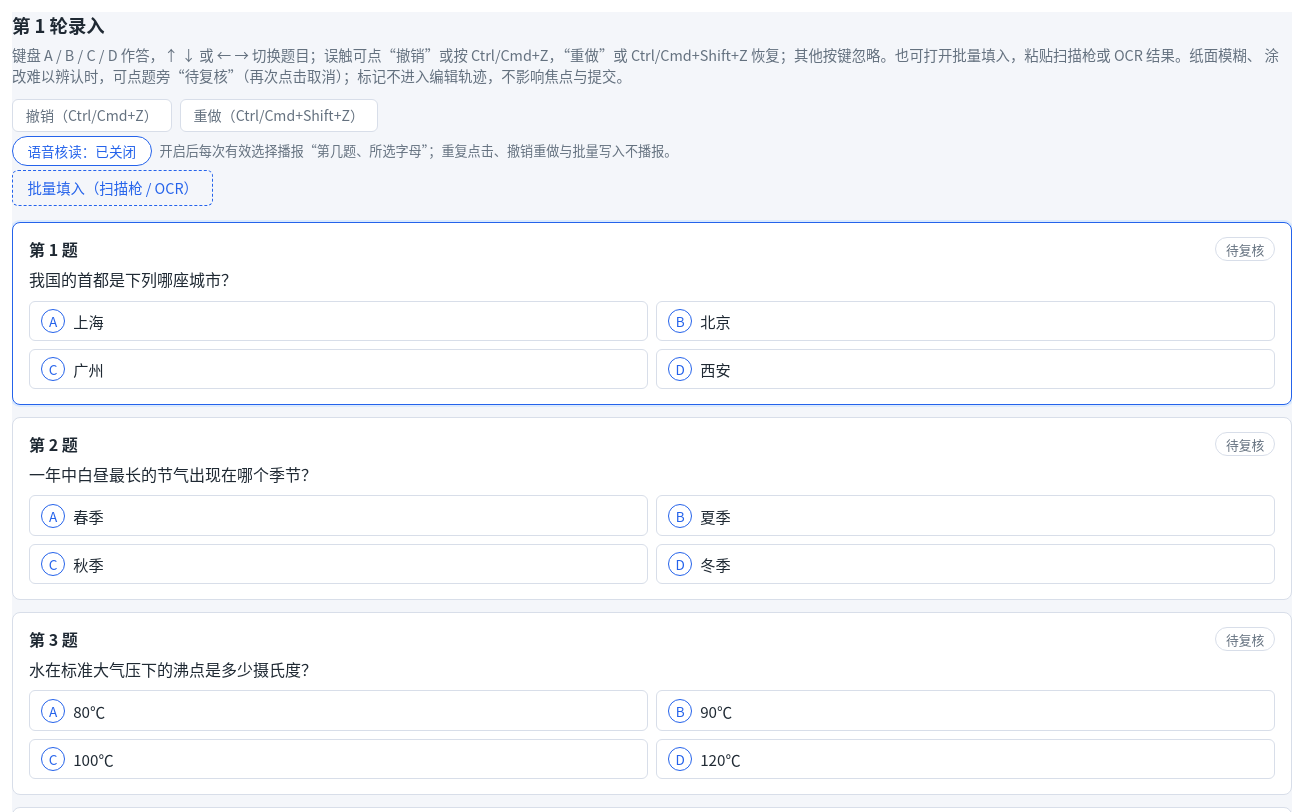
it: RoundView 撤销 / 重做 › 误触后鼠标撤销恢复答案与焦点，重做再恢复
// 第 1 题误选 A，焦点自动到第 2 题
Click the radio button with test id "q1-A": click(88, 321) [29, 301, 648, 341]
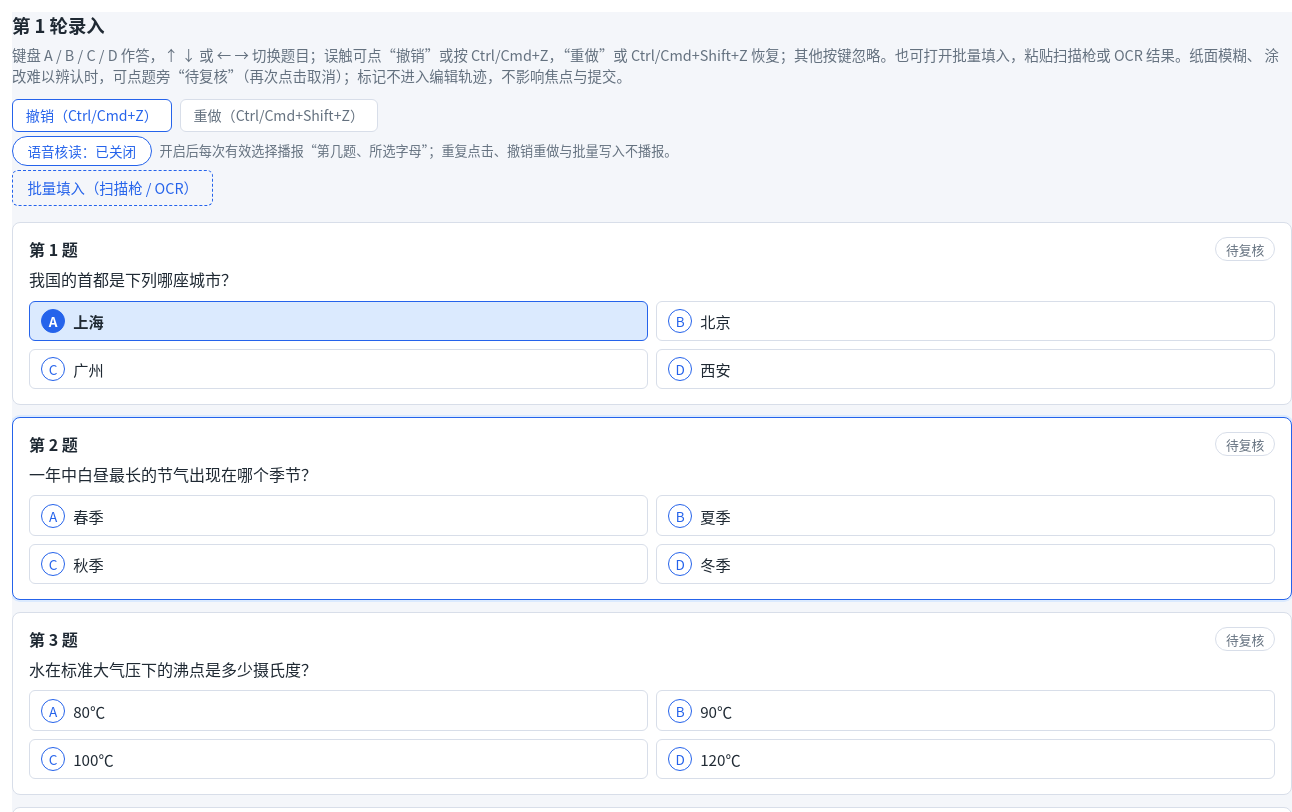
Expected: the button with test id "undo" is enabled
// 鼠标撤销：答案还原为空，焦点回到第 1 题，重做变为可用
Click the button with test id "undo": click(92, 115) [12, 99, 172, 132]
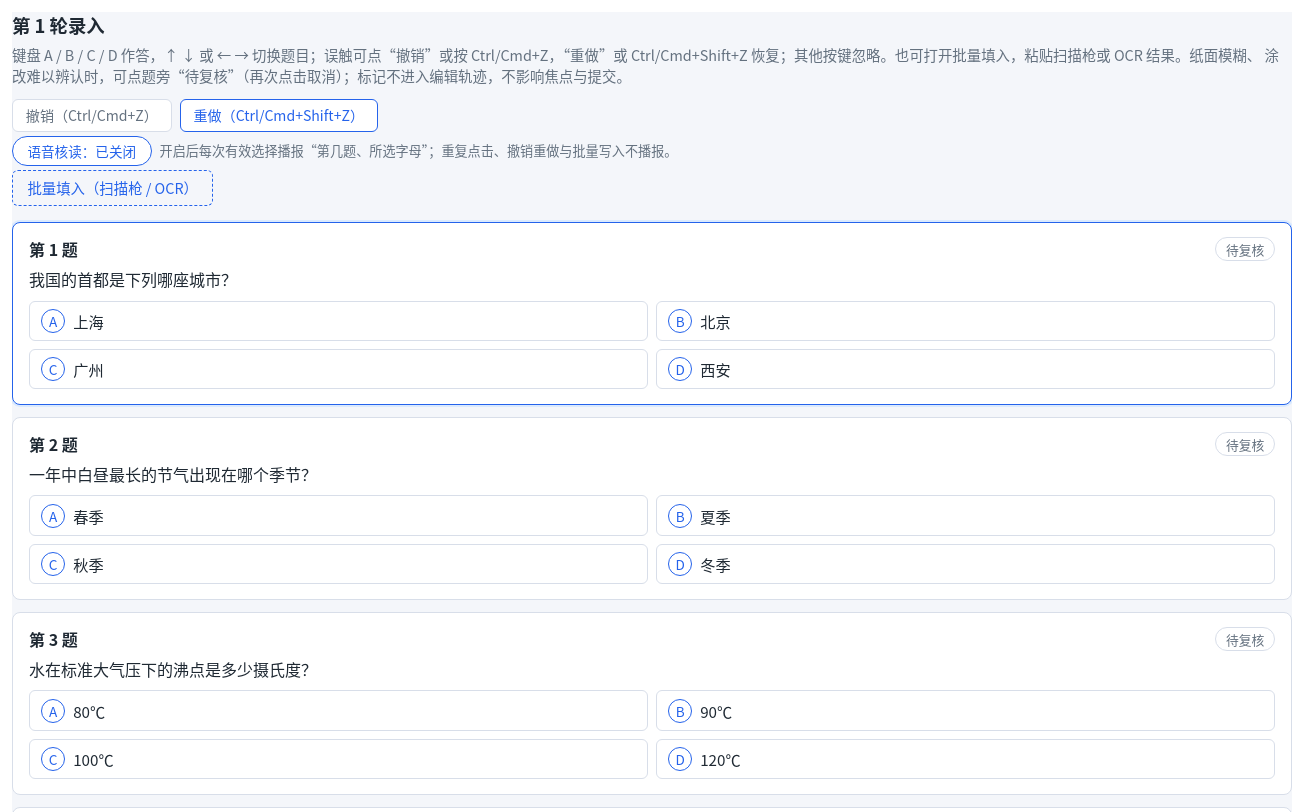
Expected: the button with test id "undo" is disabled, [12, 99, 172, 132]
Expected: the button with test id "redo" is enabled
// 鼠标重做：答案与焦点都回到操作后的状态
Click the button with test id "redo": click(279, 115) [180, 99, 378, 132]
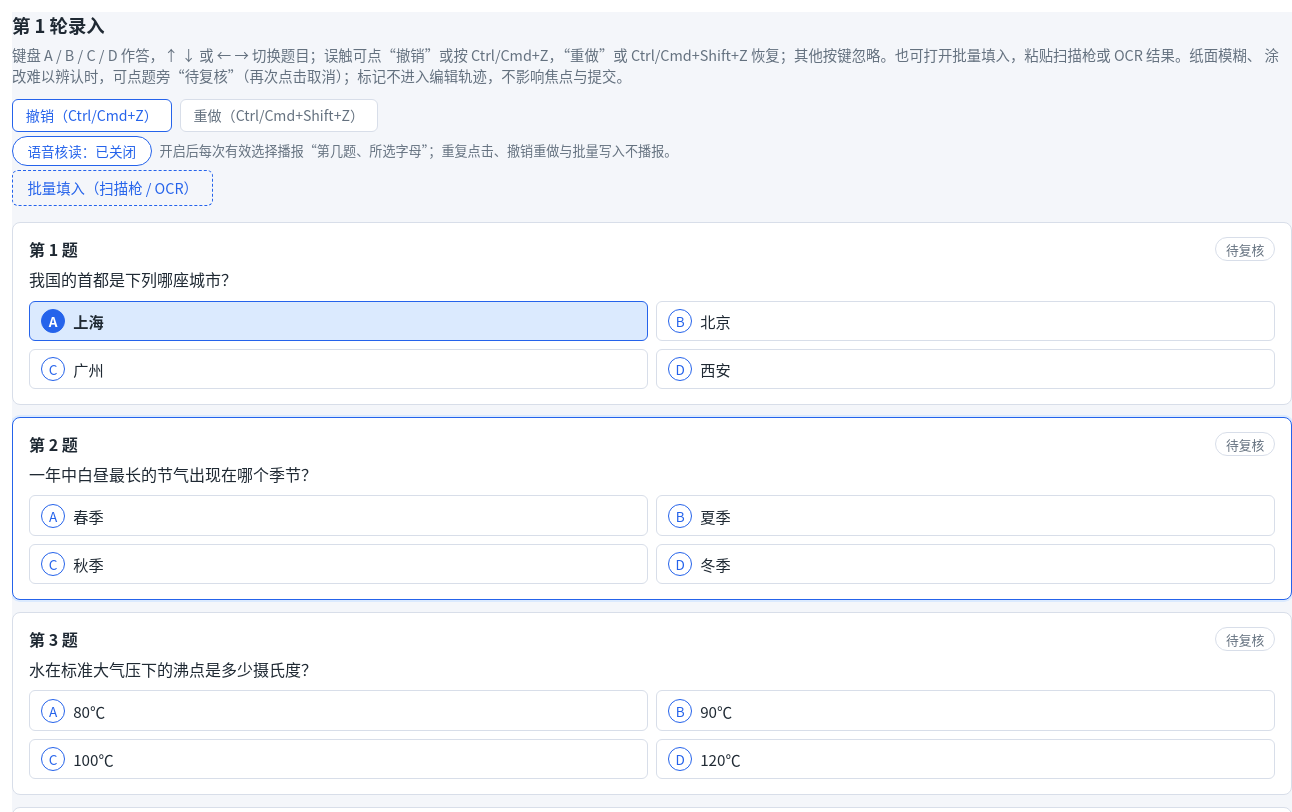
Expected: the button with test id "redo" is disabled, [180, 99, 378, 132]
